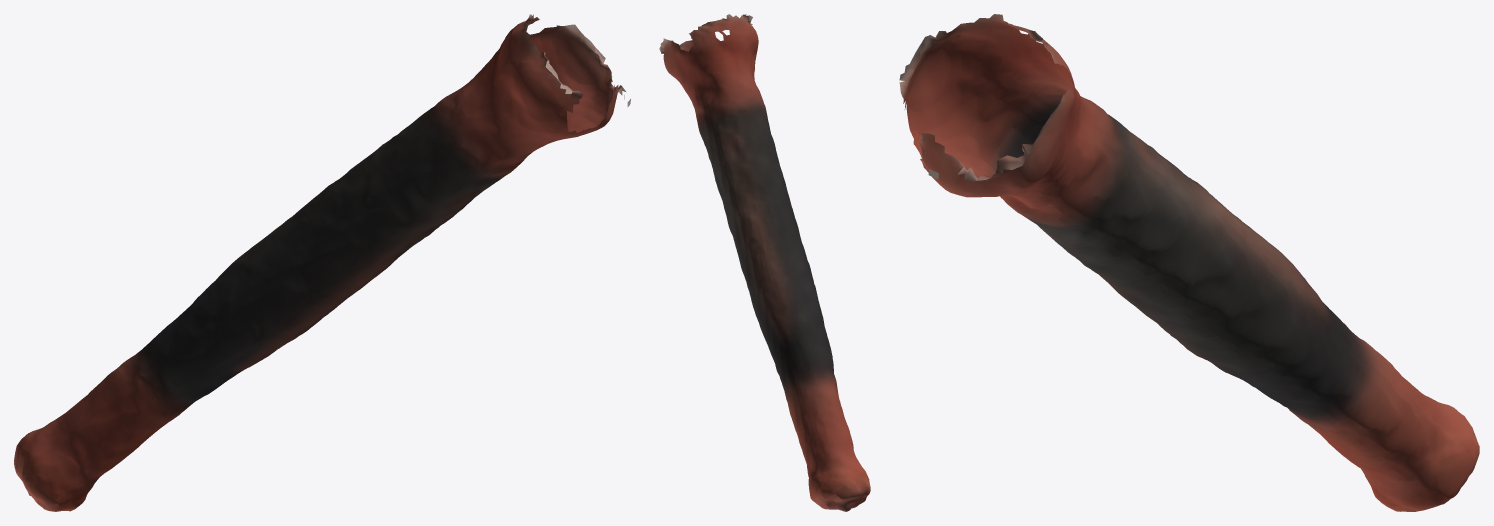
Rendered from reddriver.obj.
The picture shows the model from 3 angles, left to right: view 1: azimuth 30°, elevation 25°; view 2: azimuth 150°, elevation 25°; view 3: azimuth 270°, elevation 25°; orthographic projection. The views are drawn at different scales.
Size of the model in its own units: 0.7674 by 0.8622 by 0.6495.
